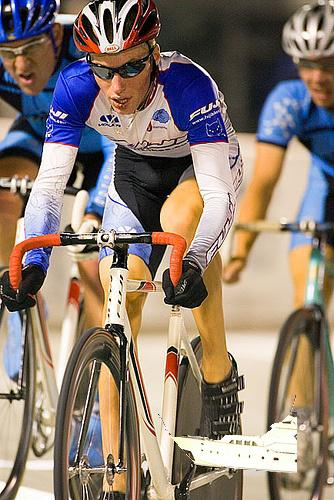tampered: (159, 396, 297, 473)
